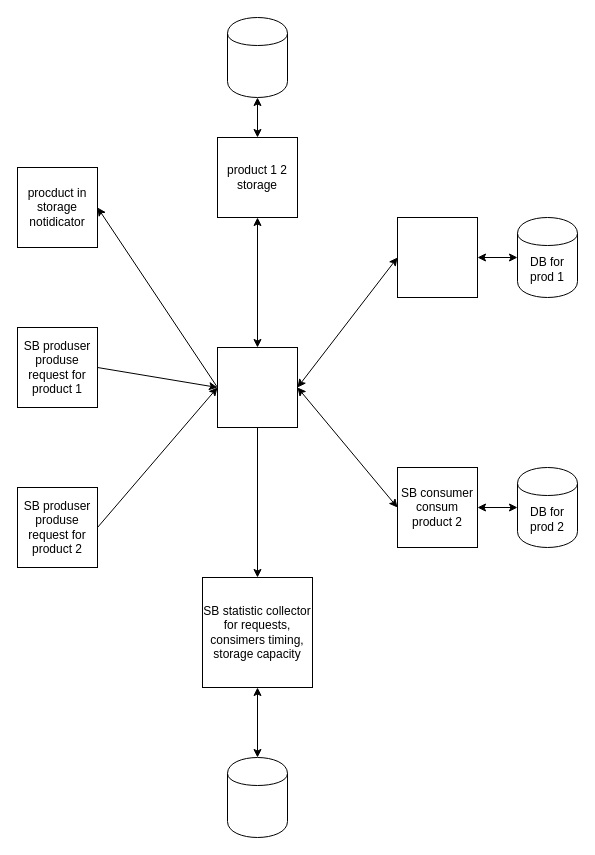
The diagram is 595 pixels wide and 855 high, and some of its shapes have lost their labels. Each missing label, with the centre of its shape:
DB for request statistic: pixel 257 797
DB for storage: pixel 257 57
KAFKA: pixel 257 387
SB consumer consum product 1: pixel 437 257
